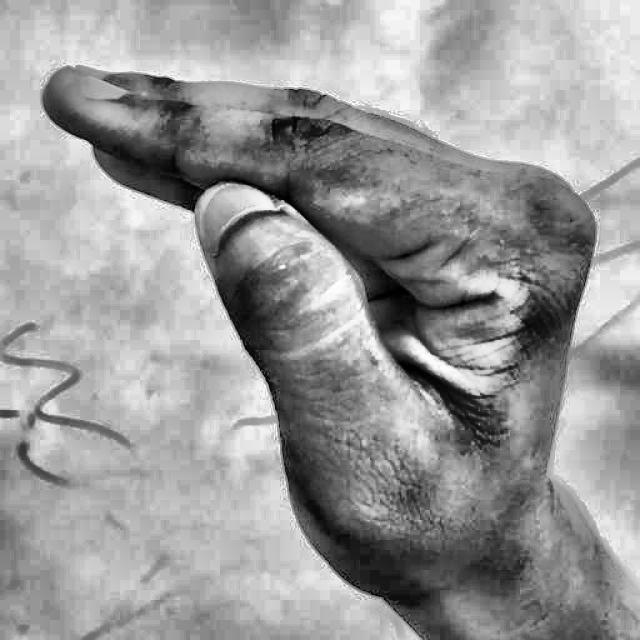Ga: (29, 31, 607, 617)
